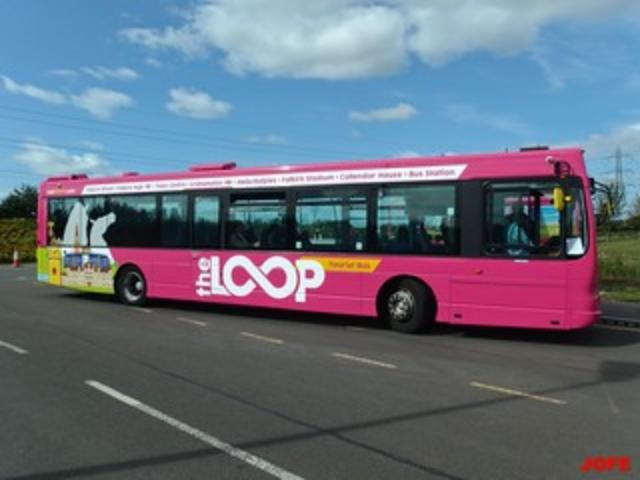bus: (36, 148, 600, 334)
